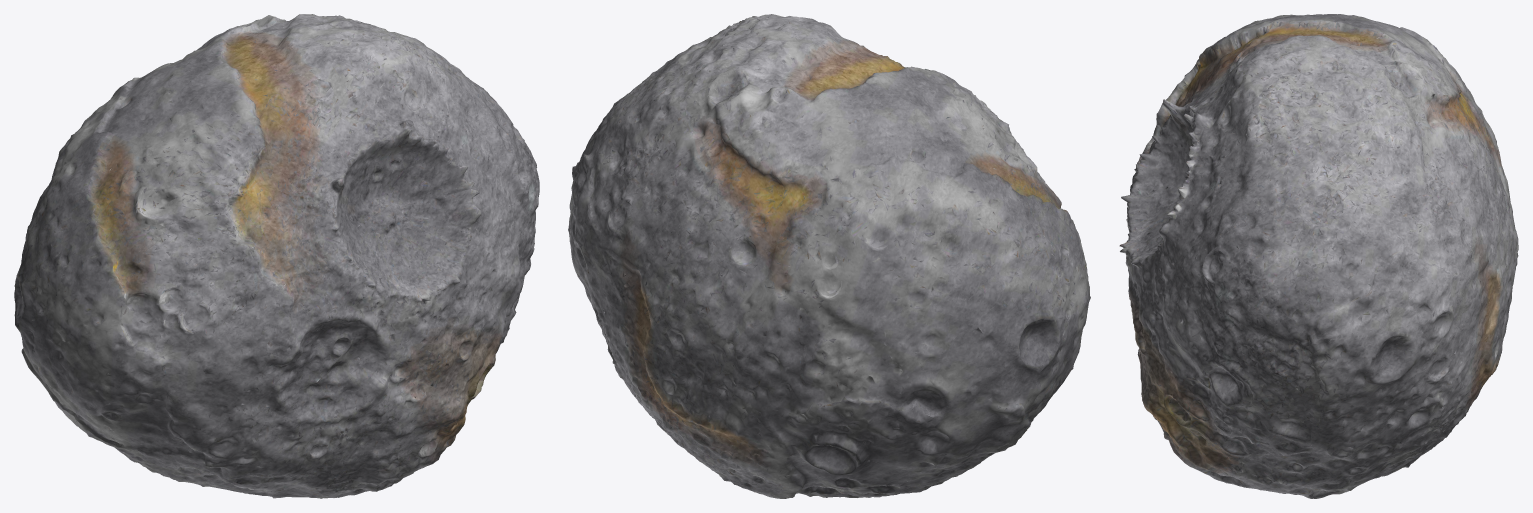
The model's file is asteroid-compressed.glb.
3 renders of one model, left to right at view 1: azimuth 30°, elevation 25°; view 2: azimuth 150°, elevation 25°; view 3: azimuth 270°, elevation 25°, orthographic.
Visible parts, largest first — view 1: PSYCHE_20170116_DEC; view 2: PSYCHE_20170116_DEC; view 3: PSYCHE_20170116_DEC.
Part boxes in pixels (x1,y1,x2,y2): PSYCHE_20170116_DEC: (14, 14, 539, 498); PSYCHE_20170116_DEC: (568, 14, 1090, 498); PSYCHE_20170116_DEC: (1119, 14, 1518, 498).
Size of the model in its own units: 3 by 2.58 by 2.12.
Materials: 1 (1 with a texture image).
